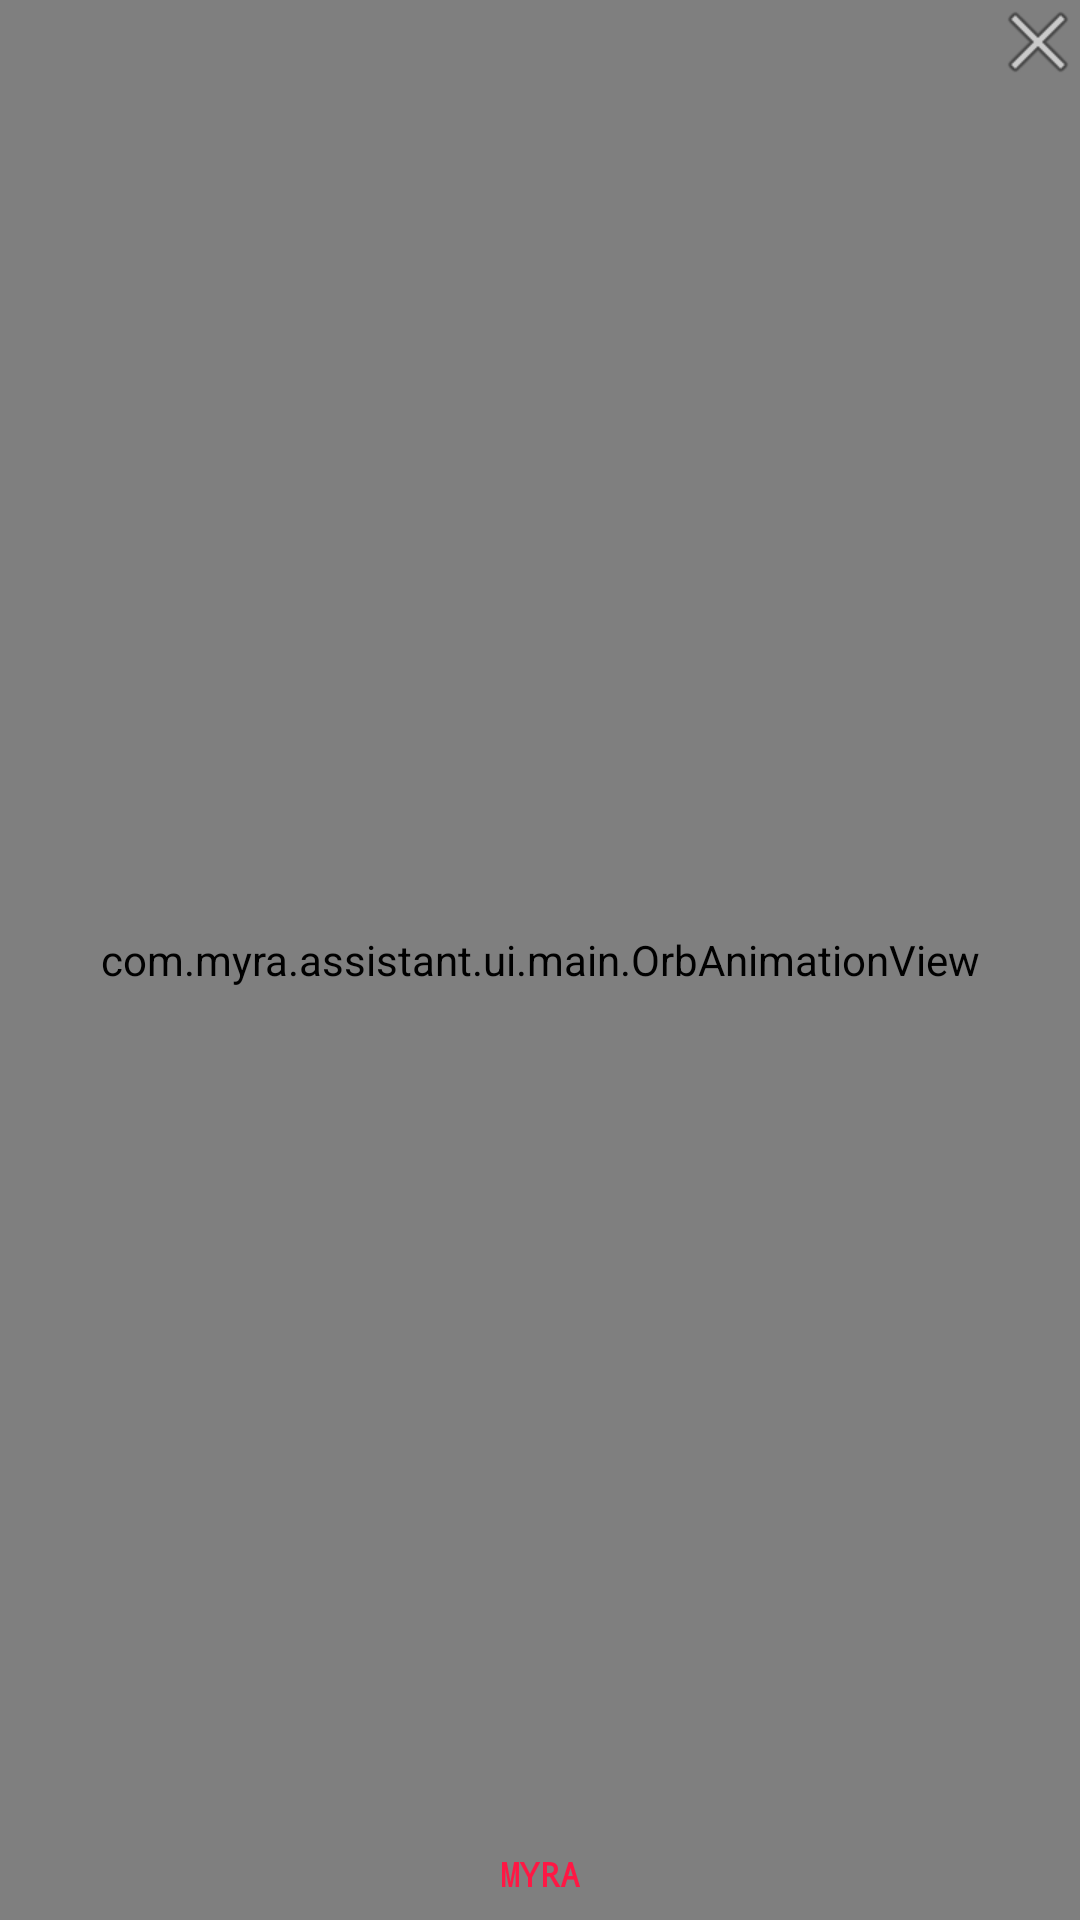

Where to tap for icons on this 1080w x 1920h app screen, as (x=x, y=y):
Close overlay: (x=1038, y=42)
